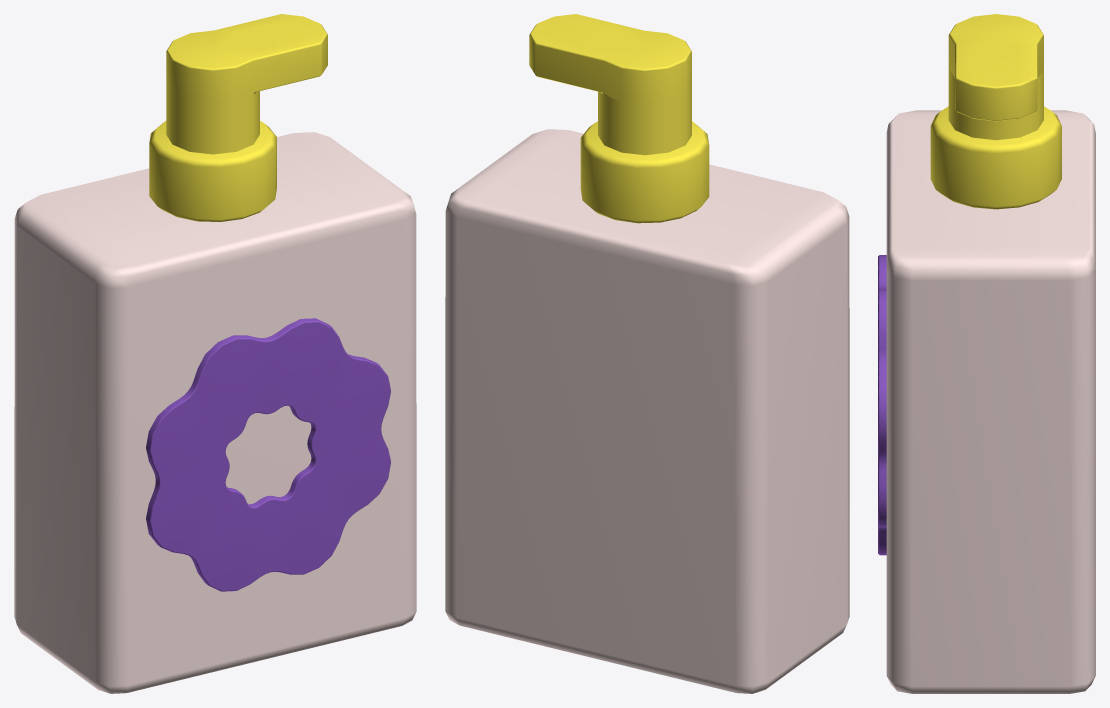
Rendered from Public_15_Bottle_4.glb.
The picture shows the model from 3 angles, left to right: view 1: azimuth 30°, elevation 25°; view 2: azimuth 150°, elevation 25°; view 3: azimuth 270°, elevation 25°; orthographic projection.
Visible parts, largest first — view 1: Public_15_Bottle_4; view 2: Public_15_Bottle_4; view 3: Public_15_Bottle_4.
Part boxes in pixels (x1,y1,x2,y2): Public_15_Bottle_4: (14,14,416,693); Public_15_Bottle_4: (445,14,849,693); Public_15_Bottle_4: (878,14,1095,693).
Bounding box in the file's own units: 1.09 × 1.88 × 0.6328.
Materials: 1 (1 with a texture image).
